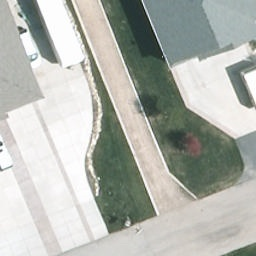camping car: (33, 0, 87, 68)
car: (15, 31, 46, 73), (0, 131, 14, 172)
